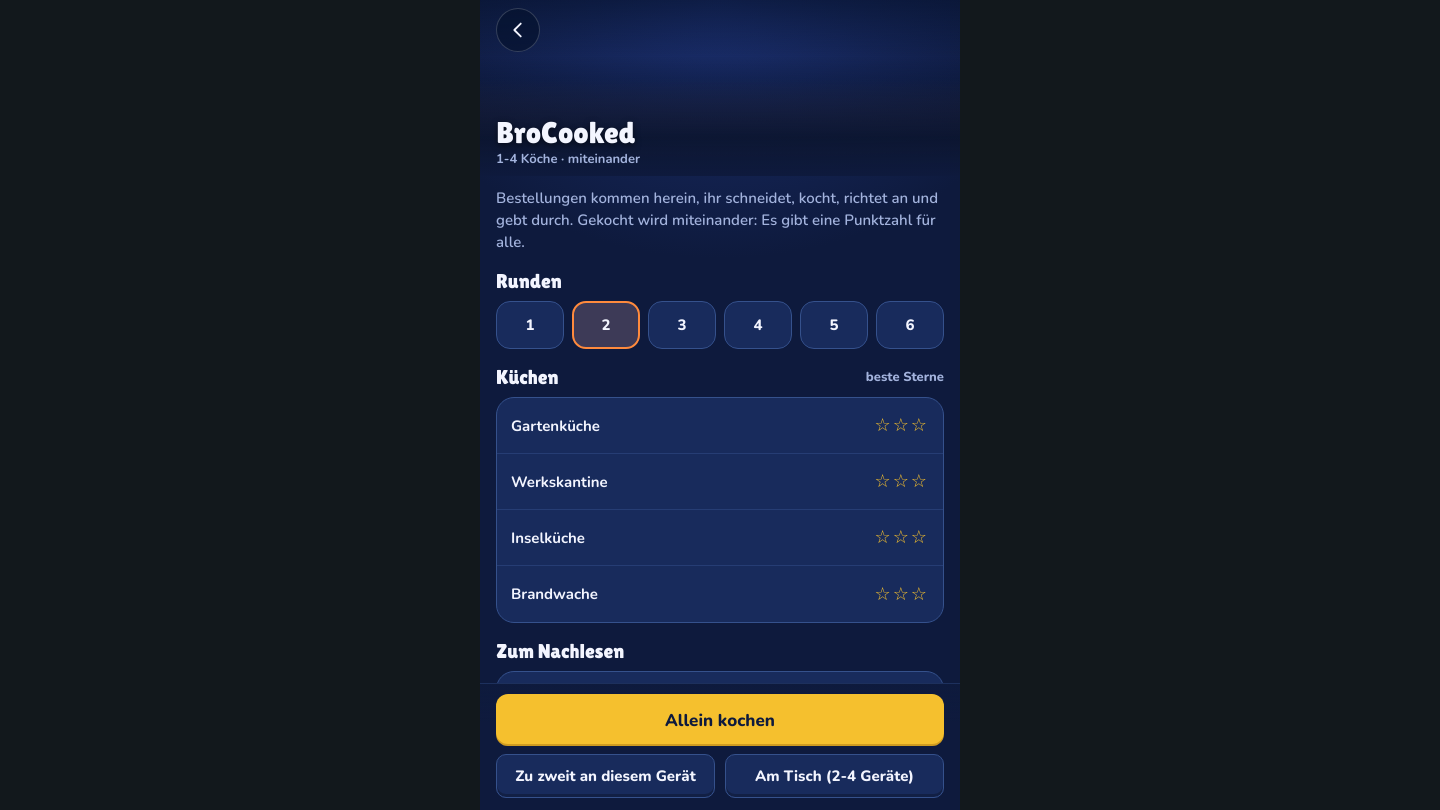
Scenario: BroCooked im neuen Hub › öffnet mit „Allein kochen" die Küche ohne Tisch
Click the button "Allein kochen" at point(720, 720), box x1=496 y1=694 x2=944 y2=746
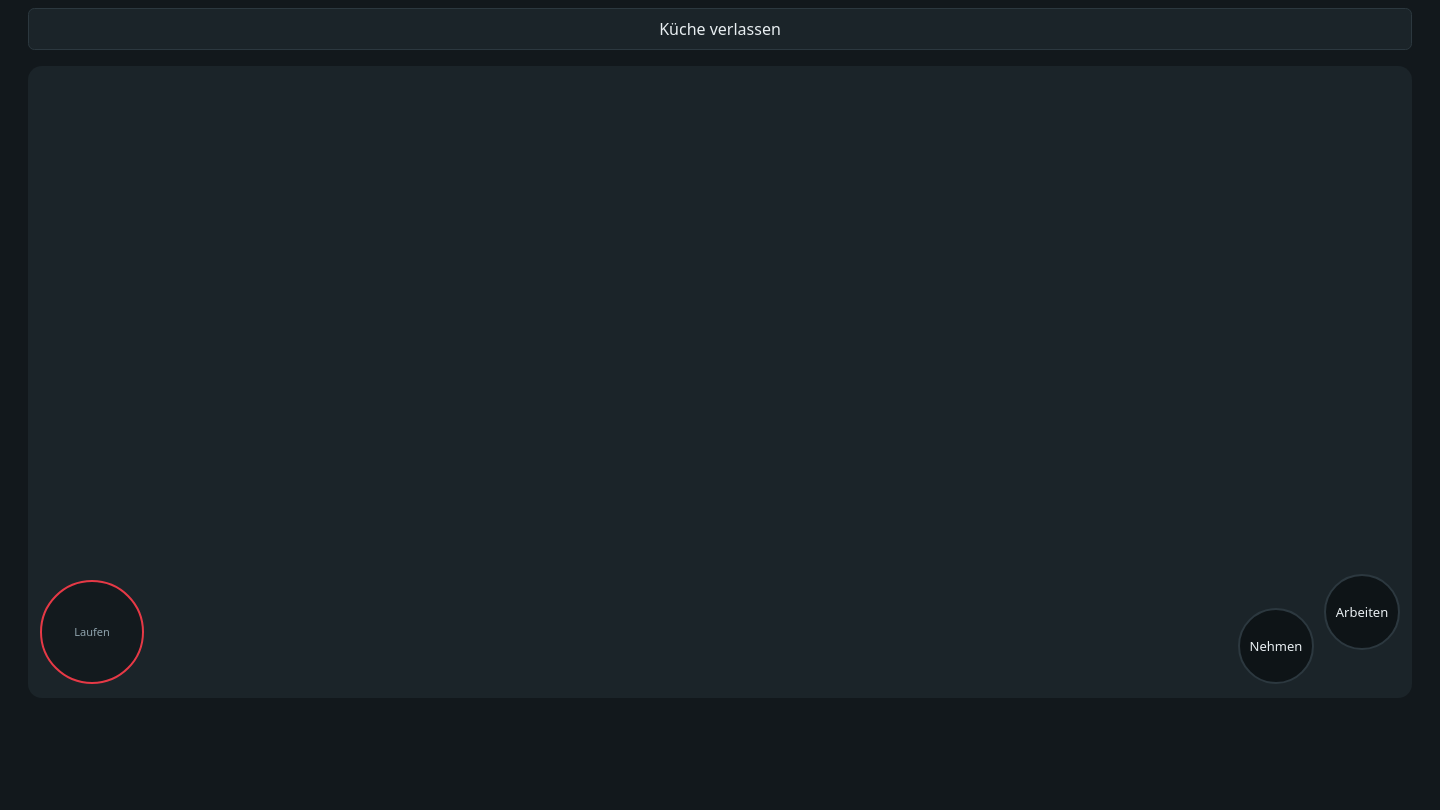
Result: the button "Küche verlassen" is shown at x1=28 y1=8 x2=1412 y2=50
